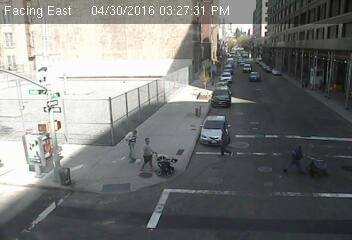neg: (33, 131, 57, 163), (320, 73, 340, 100)
pos: (135, 134, 162, 170), (283, 142, 308, 175), (212, 124, 237, 157), (121, 127, 144, 158)
